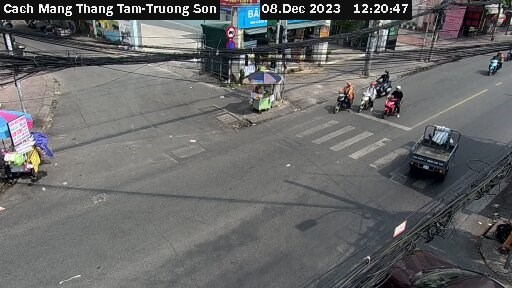motorbike: (330, 83, 360, 116), (366, 69, 399, 96), (479, 50, 508, 77), (355, 88, 381, 117), (383, 91, 406, 118)
